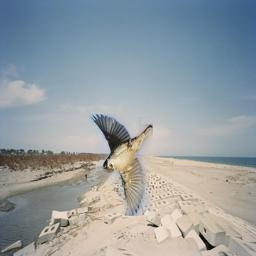Sparrow: (89, 114, 153, 216)
